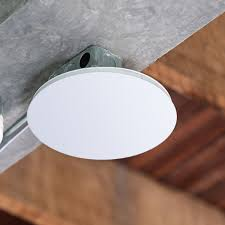ba: (30, 43, 180, 182)
